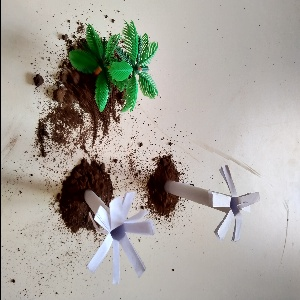plant: (59, 21, 165, 109)
weed: (161, 148, 277, 243), (71, 185, 154, 281)
